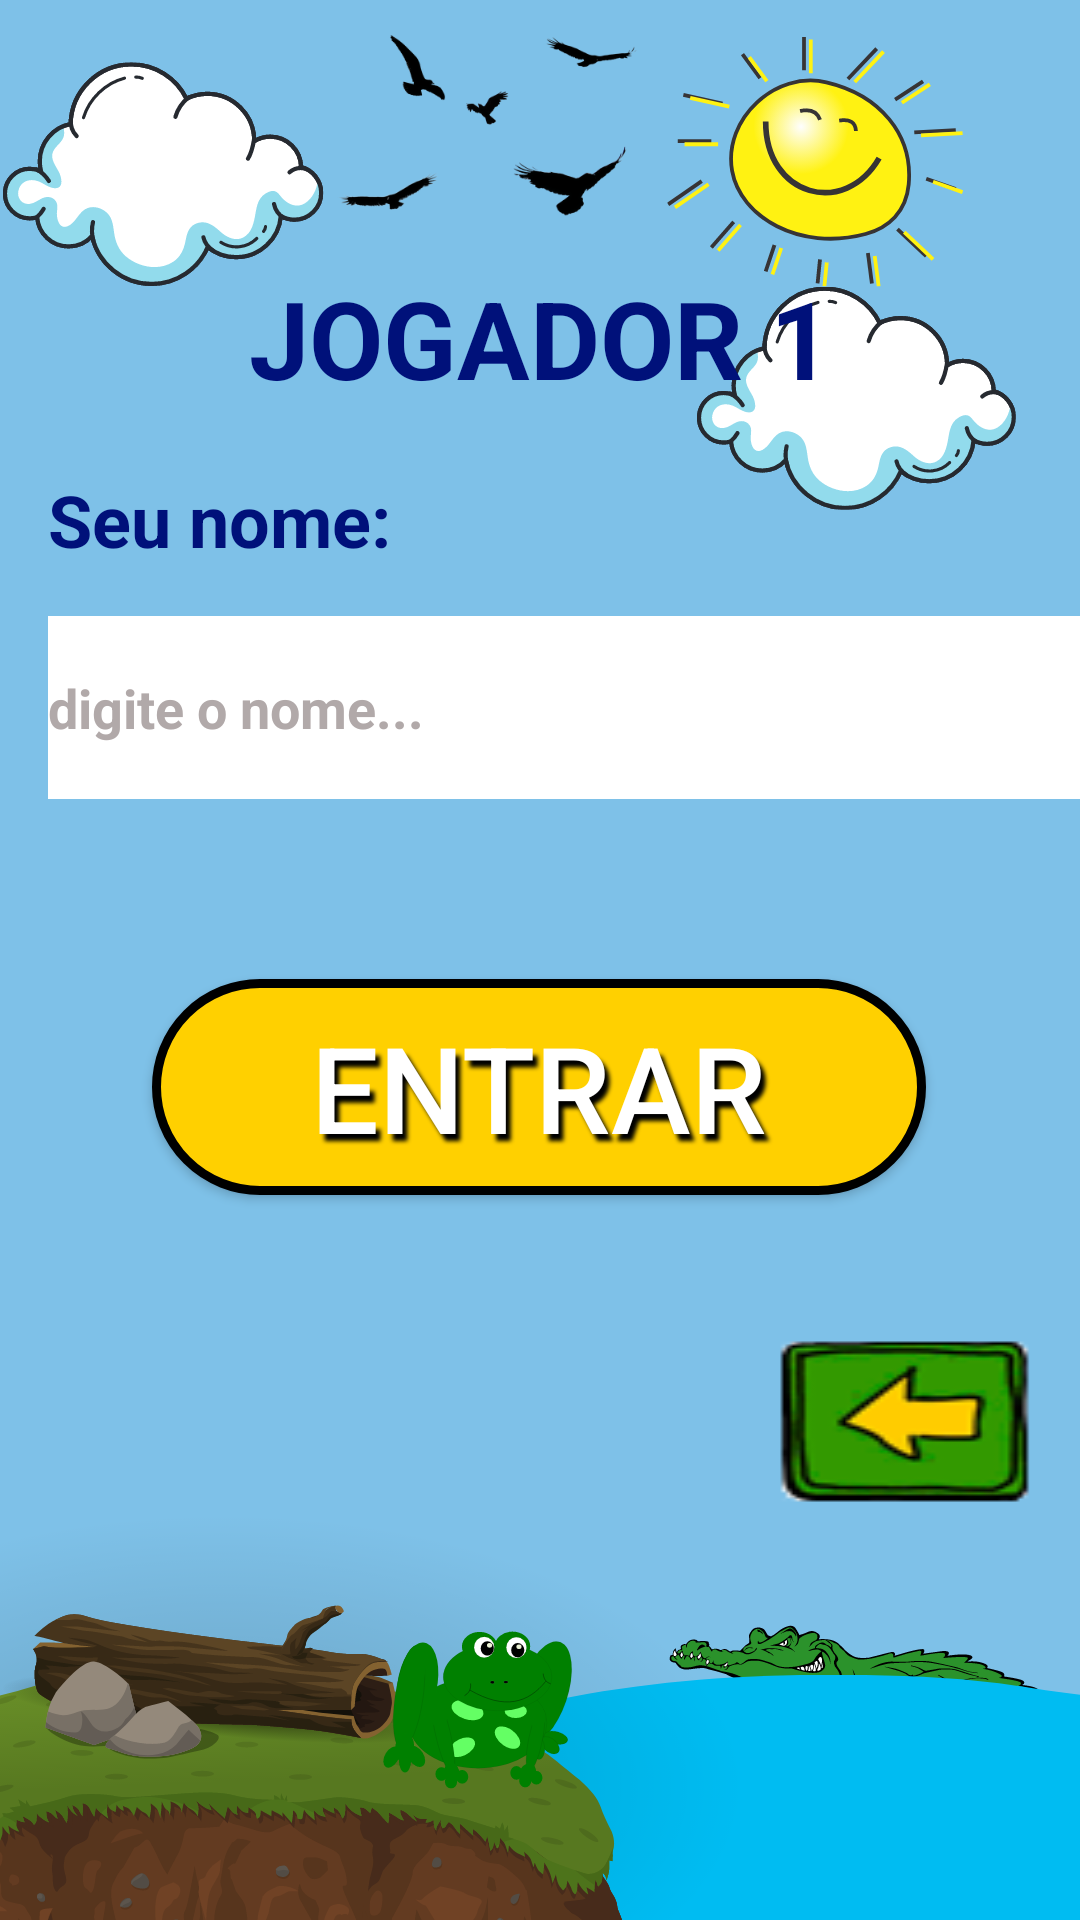

Icons on this 1080px×1920px Android screen, each with the point to tap as (x,y):
voltar: (904,1421)
